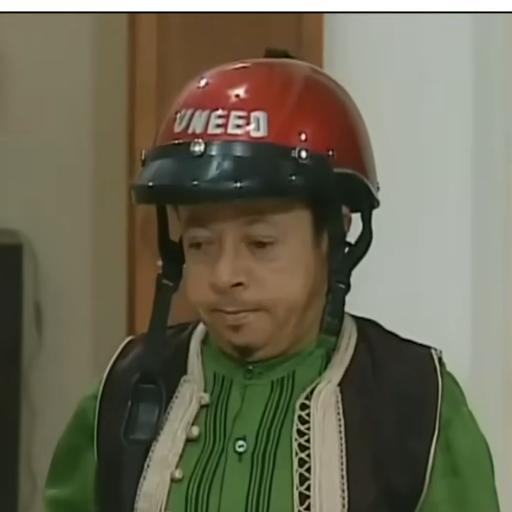fouchika: (178, 201, 327, 346)
